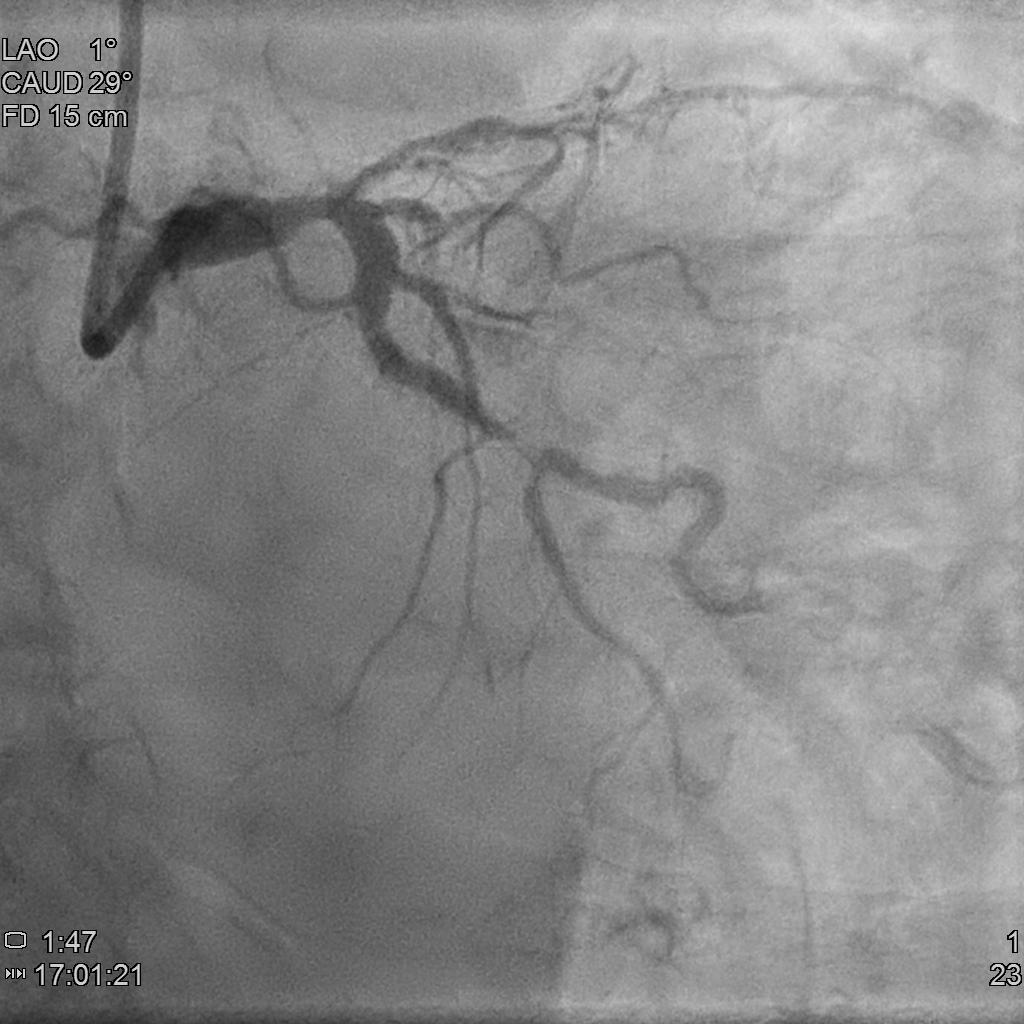block: (482, 394, 577, 477)
